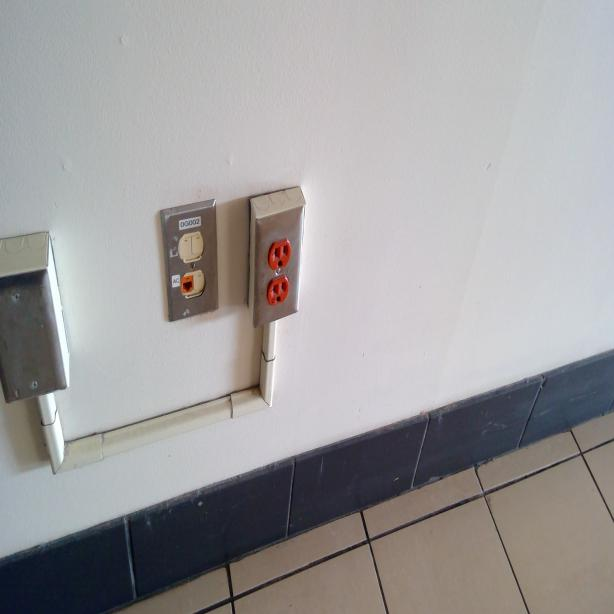typeb: (268, 240, 291, 272), (268, 276, 289, 306)
